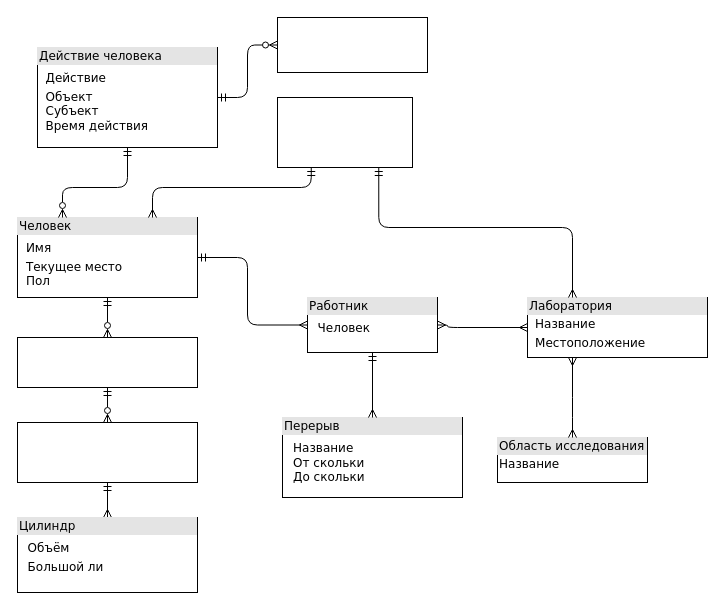
Some shapes in this 725 by 610 pixel diagram are drawn without their labels. Here are the shapes that lost their labels. From the top down, the centre of each, then its label:
At point (352, 44): "Объект Тип сущности".
At point (344, 132): "Локация Название Координаты".
At point (107, 362): "Рюкзак Застегнута ли молния".
At point (107, 452): "Пена для бритья На месте ли дно Бренд".
